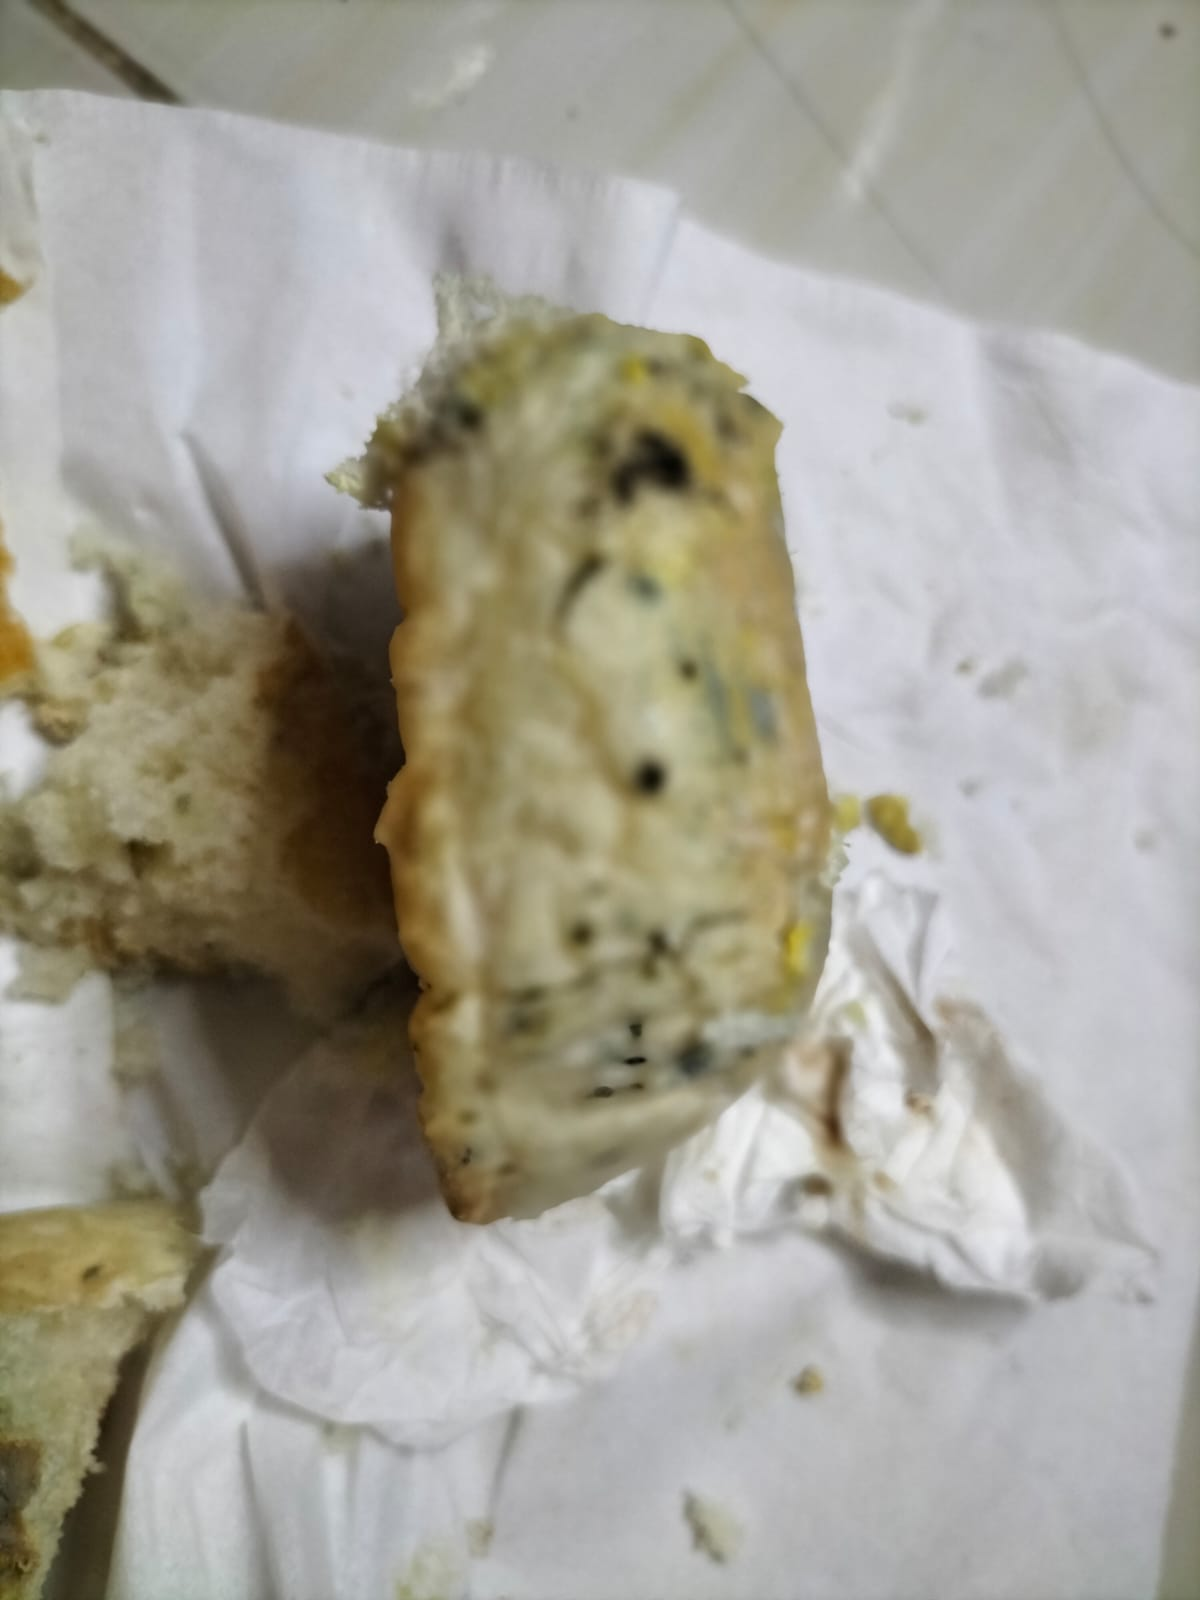mold_bread: (581, 1008, 729, 1123), (676, 637, 805, 767), (579, 404, 705, 530), (392, 377, 495, 465), (499, 971, 555, 1052), (621, 745, 679, 804), (560, 913, 603, 952)
